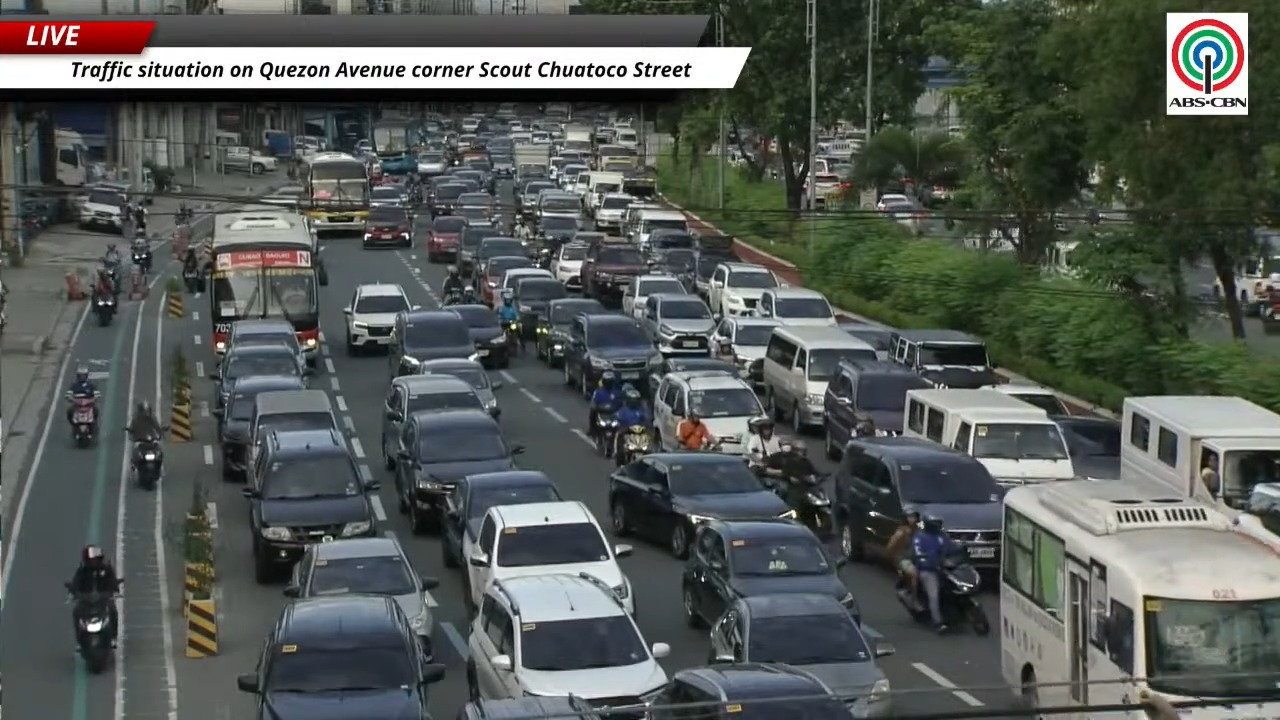bus: (1000, 480, 1279, 719), (1120, 396, 1279, 547), (1121, 396, 1279, 508), (208, 207, 319, 366), (303, 152, 369, 233)
car: (466, 573, 669, 715), (237, 595, 444, 719), (708, 593, 893, 717), (833, 437, 1004, 569), (242, 430, 379, 582), (609, 452, 794, 558), (681, 519, 860, 627), (462, 501, 634, 613), (284, 538, 437, 659), (388, 409, 523, 532), (441, 470, 563, 567), (647, 663, 856, 719), (823, 358, 932, 459), (381, 374, 485, 469), (213, 374, 304, 479), (653, 371, 764, 454), (562, 313, 660, 396), (245, 389, 340, 468), (209, 344, 309, 409), (890, 330, 1000, 388), (388, 310, 474, 376), (343, 283, 419, 353), (535, 297, 607, 366), (640, 291, 715, 355), (419, 359, 501, 417), (711, 316, 778, 384), (1050, 415, 1121, 479), (447, 303, 509, 367), (581, 242, 646, 301), (708, 263, 779, 316), (215, 318, 303, 357), (455, 696, 601, 719), (512, 276, 566, 338), (647, 355, 737, 391), (756, 287, 836, 326), (477, 255, 535, 306), (983, 382, 1071, 415), (621, 275, 686, 318), (693, 238, 738, 298), (457, 225, 502, 280), (838, 316, 891, 360), (495, 267, 552, 306), (649, 248, 696, 293), (424, 215, 468, 262), (362, 207, 412, 248), (550, 242, 586, 290), (428, 176, 471, 216), (646, 228, 696, 262), (476, 236, 528, 267), (517, 178, 555, 215), (257, 184, 306, 209), (536, 215, 578, 243), (369, 183, 408, 208), (454, 205, 495, 226), (416, 150, 447, 177), (411, 214, 433, 246)
motorcycle: (769, 474, 833, 539), (938, 554, 989, 635), (71, 593, 113, 673), (66, 391, 99, 447), (134, 437, 164, 491), (615, 425, 651, 466), (592, 408, 619, 457), (93, 294, 117, 326), (131, 243, 152, 275), (103, 261, 120, 296), (504, 321, 521, 355), (182, 267, 201, 294), (537, 245, 551, 269), (442, 291, 461, 306)
truck: (1121, 396, 1279, 549), (372, 118, 415, 175), (54, 128, 93, 186), (561, 124, 593, 154), (514, 144, 549, 171), (262, 130, 293, 159)
